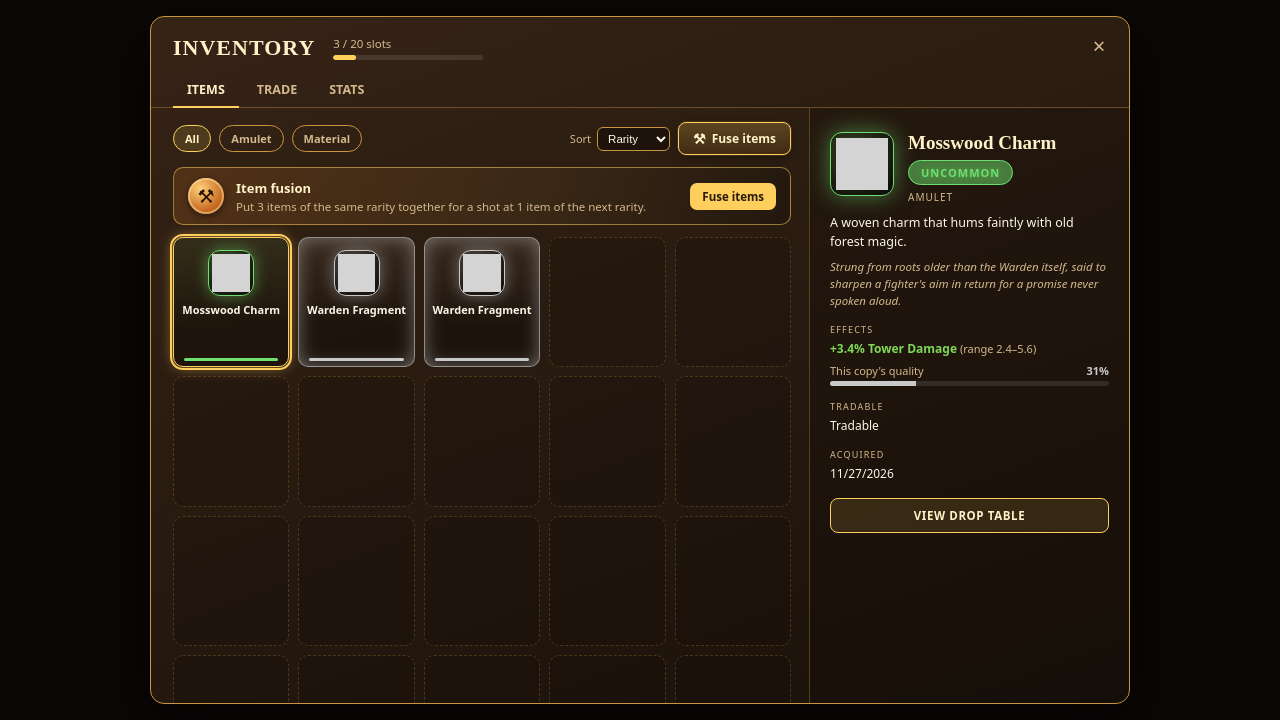
Test case: InventoryPanel — Item Fusion mode (SISTEMA DE FUSÃO DE ITENS) › after the first pick, items of another rarity can't be picked
The width and height of the screenshot is (1280, 720).
What coordinates should you click on to do the following:
click the button with test id "inventory-fusion-toggle"
I would click on:
 (735, 138)
Its box is [678,122,791,155].
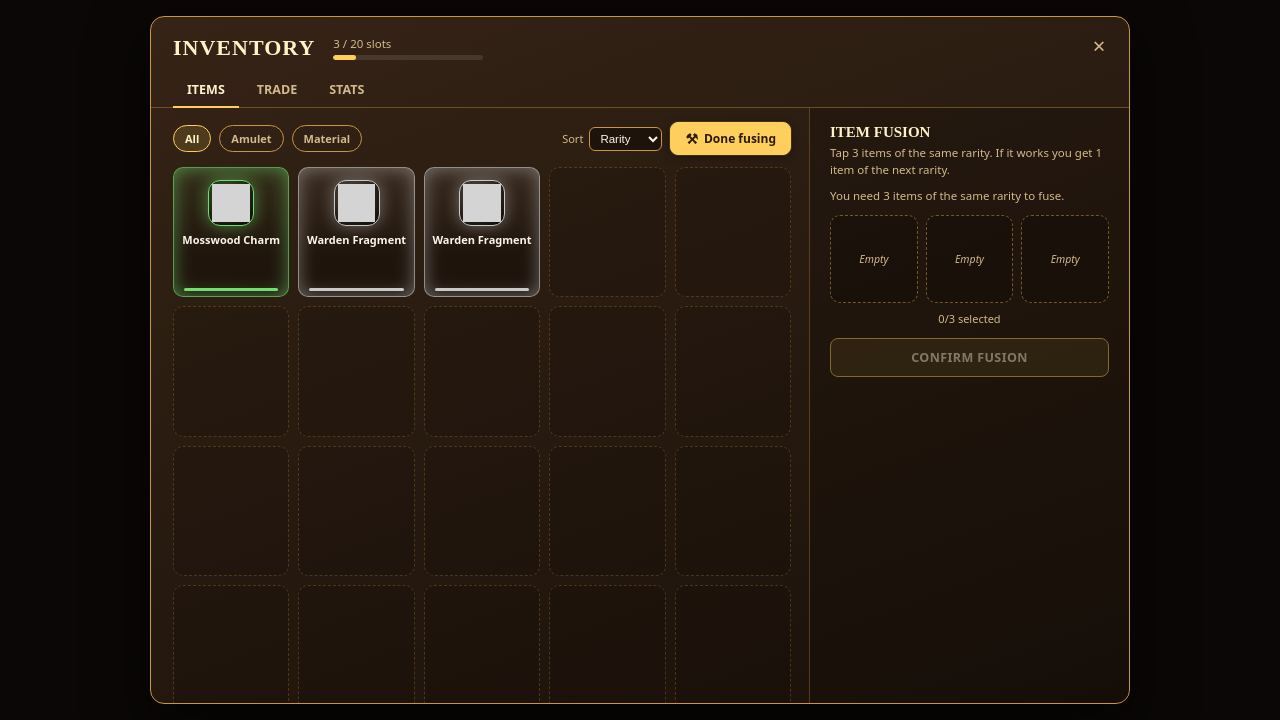
What coordinates should you click on to do the following:
click the 2nd button with class "hordenova-item-tile"
I would click on:
 (357, 232)
Its box is [298,167,415,297].
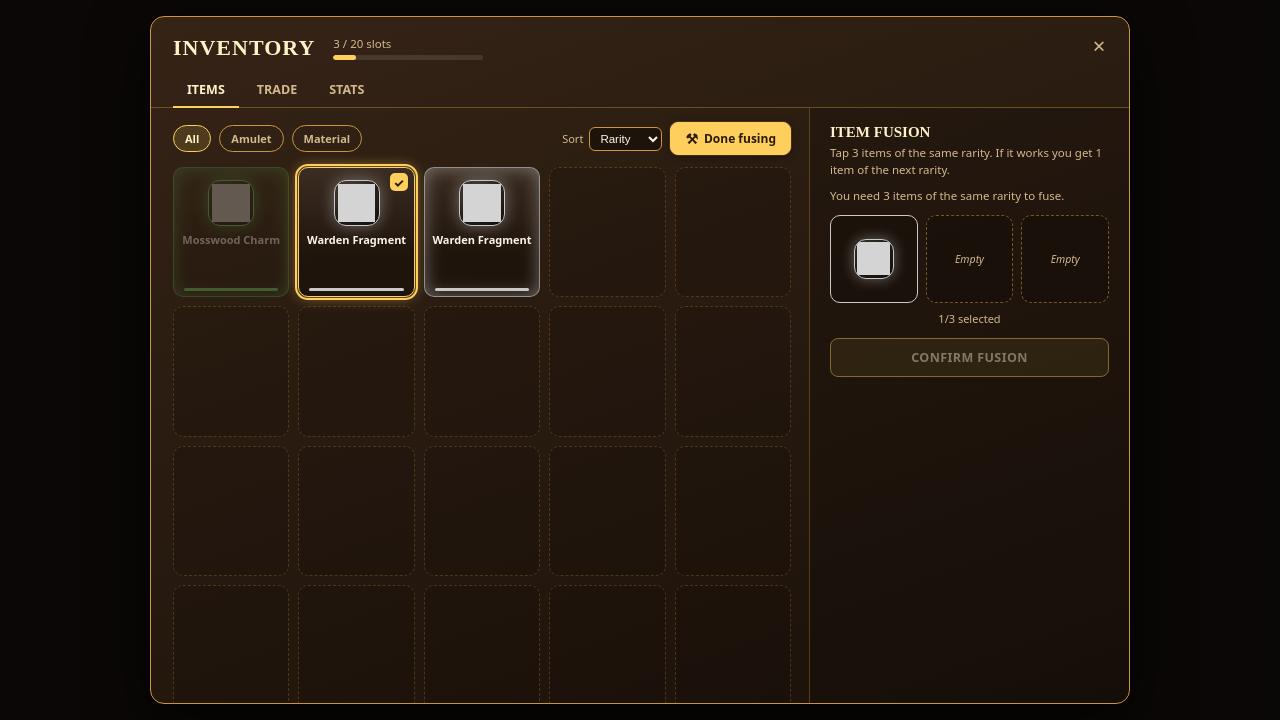
Expected: the button with class "hordenova-item-tile" showing "Mosswood Charm" is disabled, [173,167,289,297]
